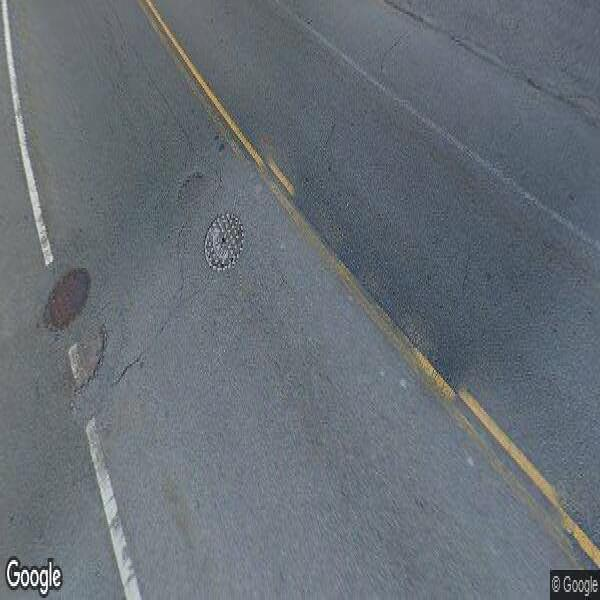manhole: (38, 252, 92, 332), (196, 208, 253, 277)
